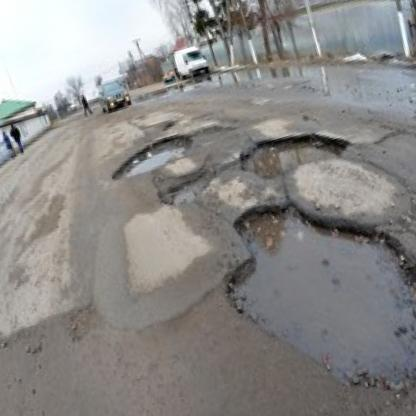pothole: (206, 162, 416, 416), (234, 115, 356, 190), (103, 128, 199, 186), (163, 165, 219, 209)
